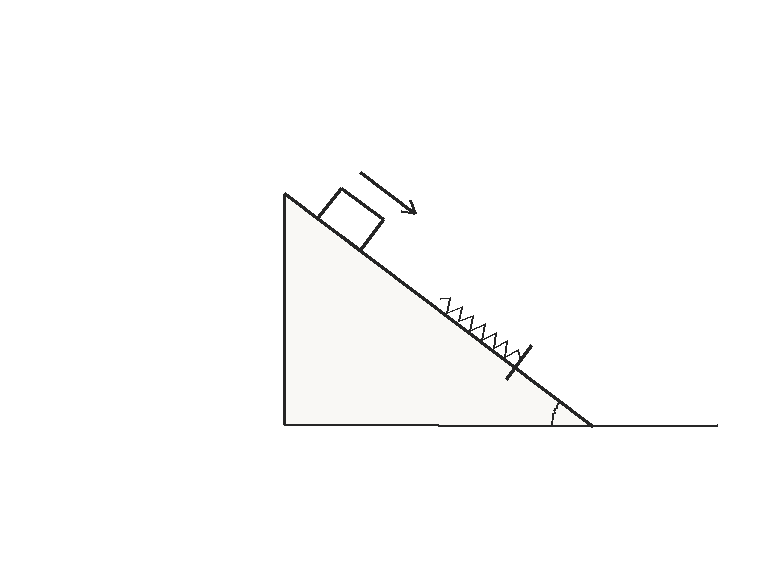block: (315, 185, 386, 252)
ramp: (282, 191, 594, 427)
spring: (438, 296, 522, 362)
